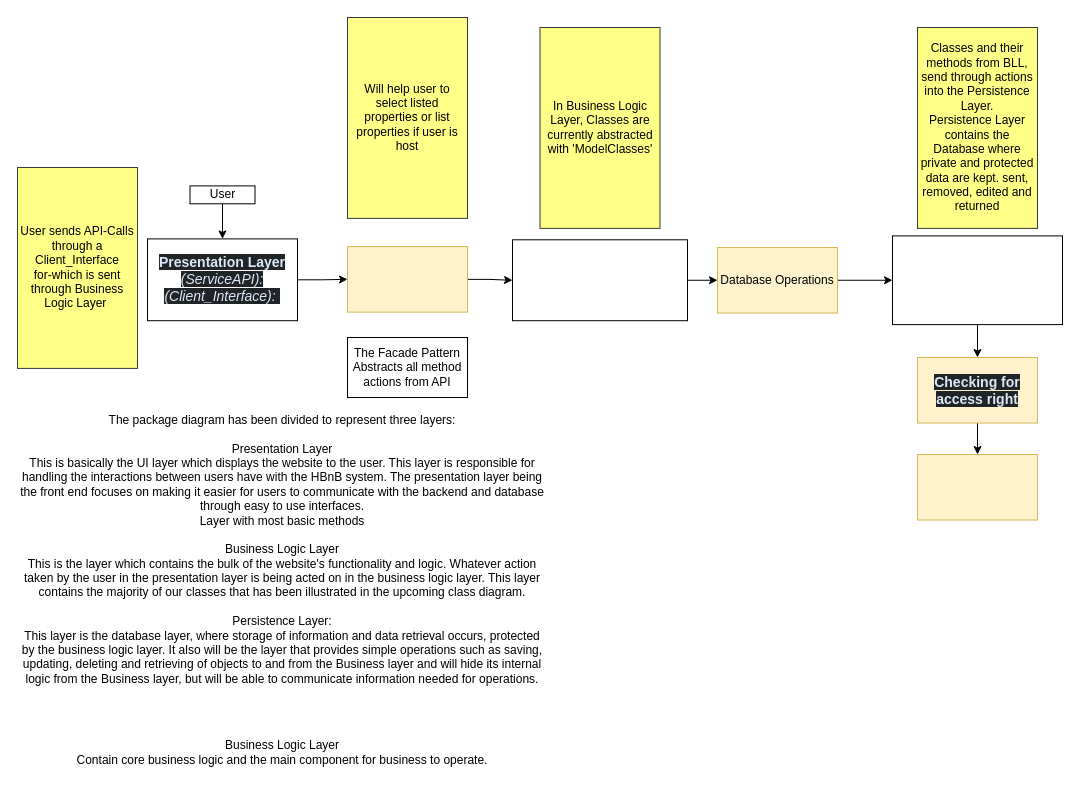
This 1080x795 diagram has some shape labels left out. Each missing label, with the centre of its shape:
"Business Logic Layer (ModelClasses):" belongs at (x=600, y=280).
"Database Storage" belongs at (x=977, y=487).
"Facade Pattern" belongs at (x=407, y=279).
"Persistence Layer:" belongs at (x=977, y=280).
